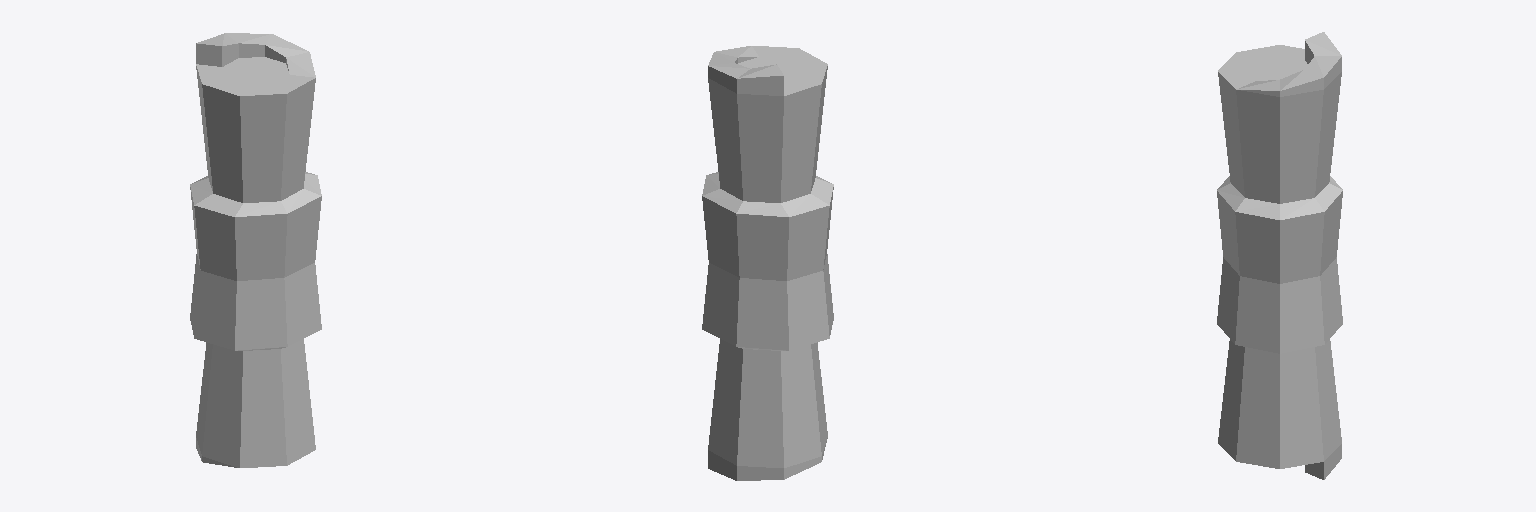
Rendered from collectible_message.obj.
The picture shows the model from 3 angles: view 1: azimuth 30°, elevation 25°; view 2: azimuth 150°, elevation 25°; view 3: azimuth 270°, elevation 25°; orthographic projection.
Visible parts, largest first — view 1: collectible__message_Cylinder.007; view 2: collectible__message_Cylinder.007; view 3: collectible__message_Cylinder.007.
Part boxes in pixels (x1,y1,x2,y2): collectible__message_Cylinder.007: (190,33,321,467); collectible__message_Cylinder.007: (702,46,833,480); collectible__message_Cylinder.007: (1217,32,1342,479).
Size of the model in its own units: 0.5956 by 1.9 by 0.5287.